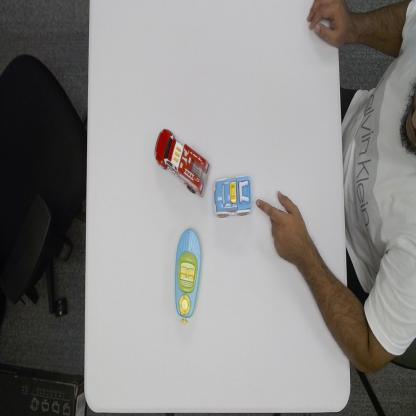Arm: (300, 245, 348, 353)
Boat: (173, 226, 204, 326)
Car: (212, 176, 254, 219)
Firetruck: (154, 127, 210, 199)
Hand: (255, 189, 305, 264), (306, 0, 341, 47)
